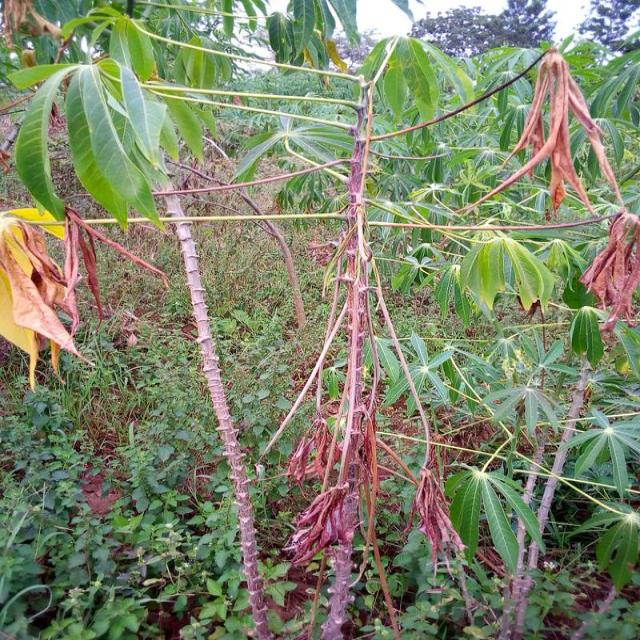cassava leaf: (66, 56, 170, 232)
